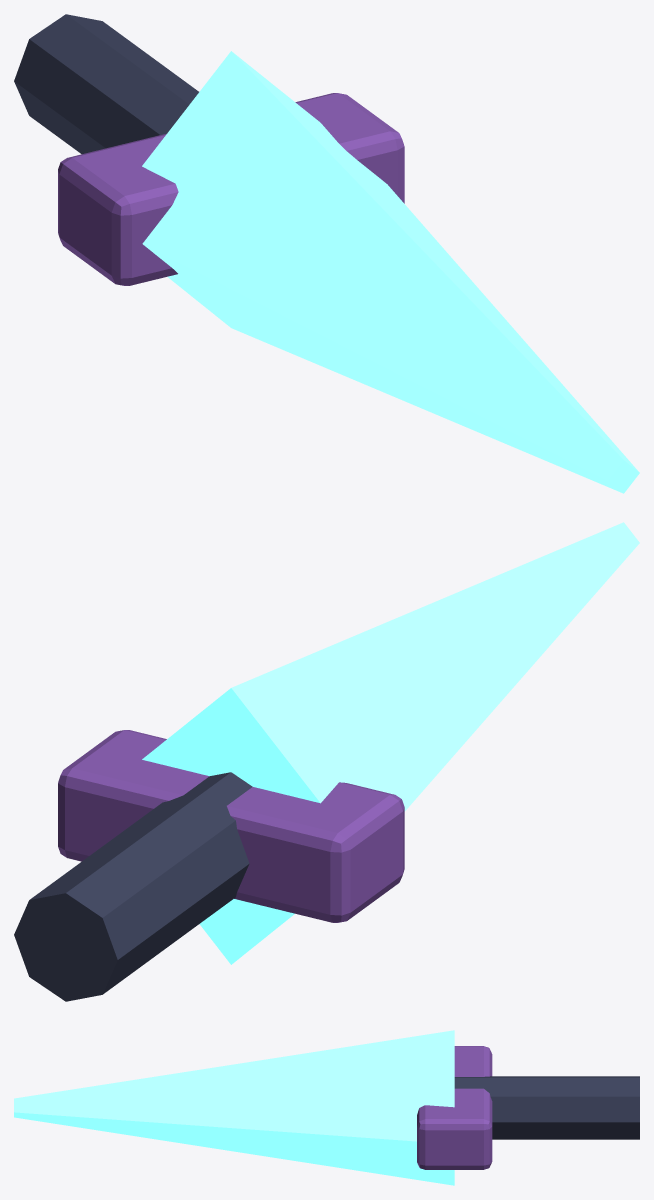
The model's file is SM_Xayah_FeatherDagger.fbx.
3 views of the same model, one above another, from view 1: azimuth 30°, elevation 25°; view 2: azimuth 150°, elevation 25°; view 3: azimuth 270°, elevation 25° (orthographic). The views are drawn at different scales.
Visible parts, largest first — view 1: SM_Xayah_FeatherDagger; view 2: SM_Xayah_FeatherDagger; view 3: SM_Xayah_FeatherDagger.
Boxes of the visible parts, x1,y1,x2,y2 form: SM_Xayah_FeatherDagger: (14,14,639,493); SM_Xayah_FeatherDagger: (14,522,639,1001); SM_Xayah_FeatherDagger: (14,1030,639,1185).
Bounding box in the file's own units: 16.28 × 54 × 14.8.
